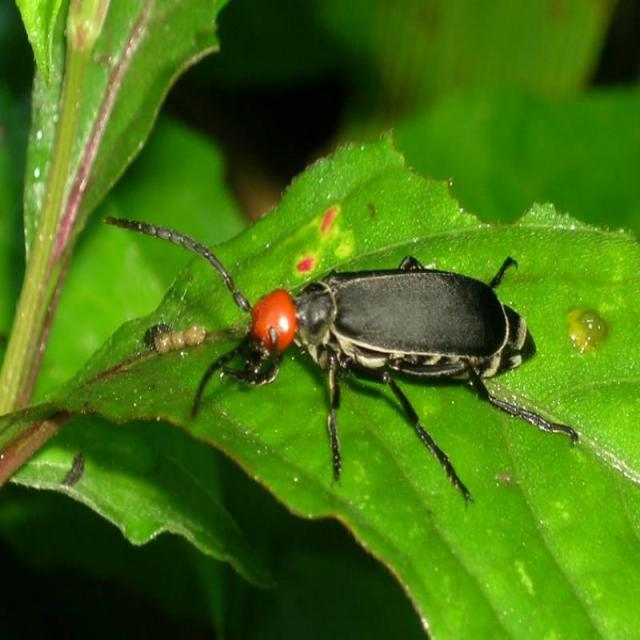BlisterBeetle-Adult-: (88, 210, 579, 500)
